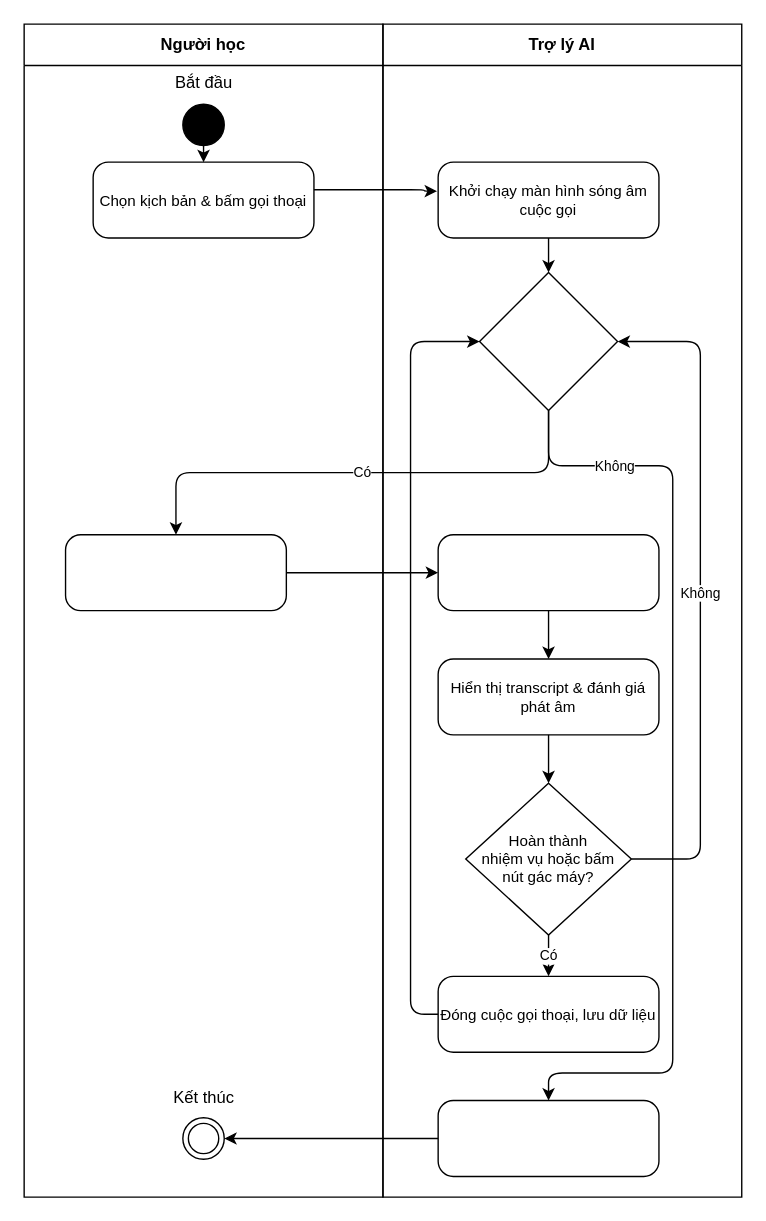
The diagram is 766 pixels wide and 1221 high, and some of its shapes have lost their labels. The box of each missing label's shape, as (x1, y1, x2, y2) in pixels:
AI phản hồi bằng giọng nói tự nhiên: (437, 533, 659, 611)
Cuộc gọi còn kết nối?: (478, 271, 618, 411)
Hiển thị kết quả: (437, 1099, 659, 1176)
Nói trực tiếp câu trả lời qua micro: (64, 533, 286, 611)
